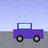vehicle: (13, 23, 43, 42)
